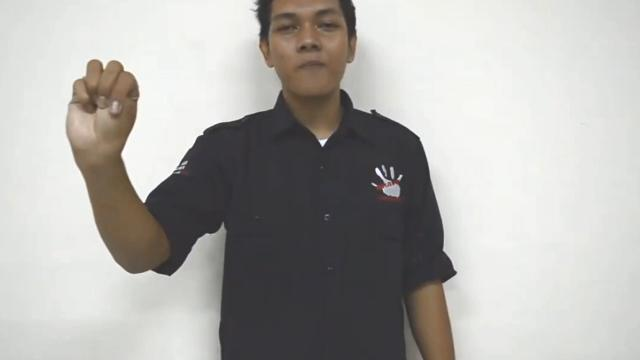M: (65, 58, 142, 164)
